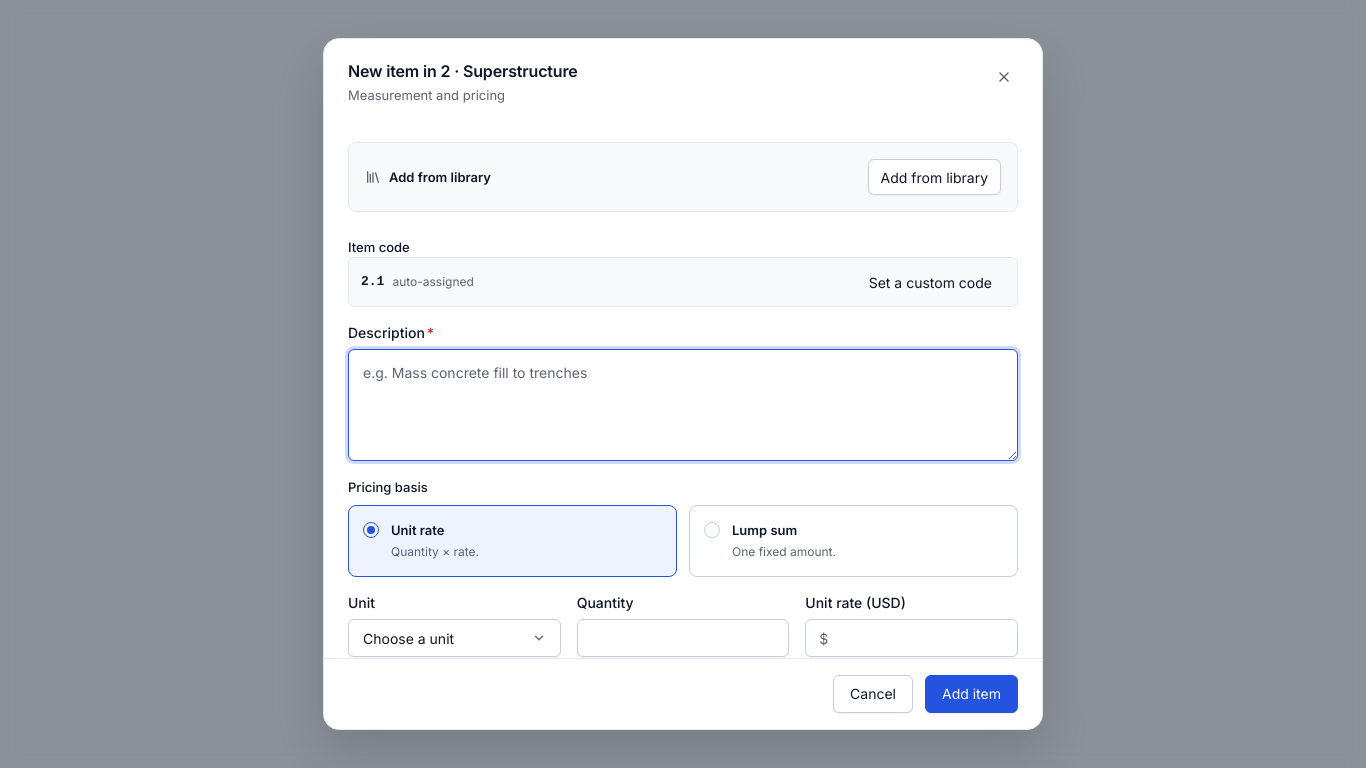
Test case: BoqItemDialog — unit dropdown › offers the active units, symbol first with the name beside it
Click the dropdown labelled "Choose a unit". click: x=454, y=638
box: [348,619,561,657]
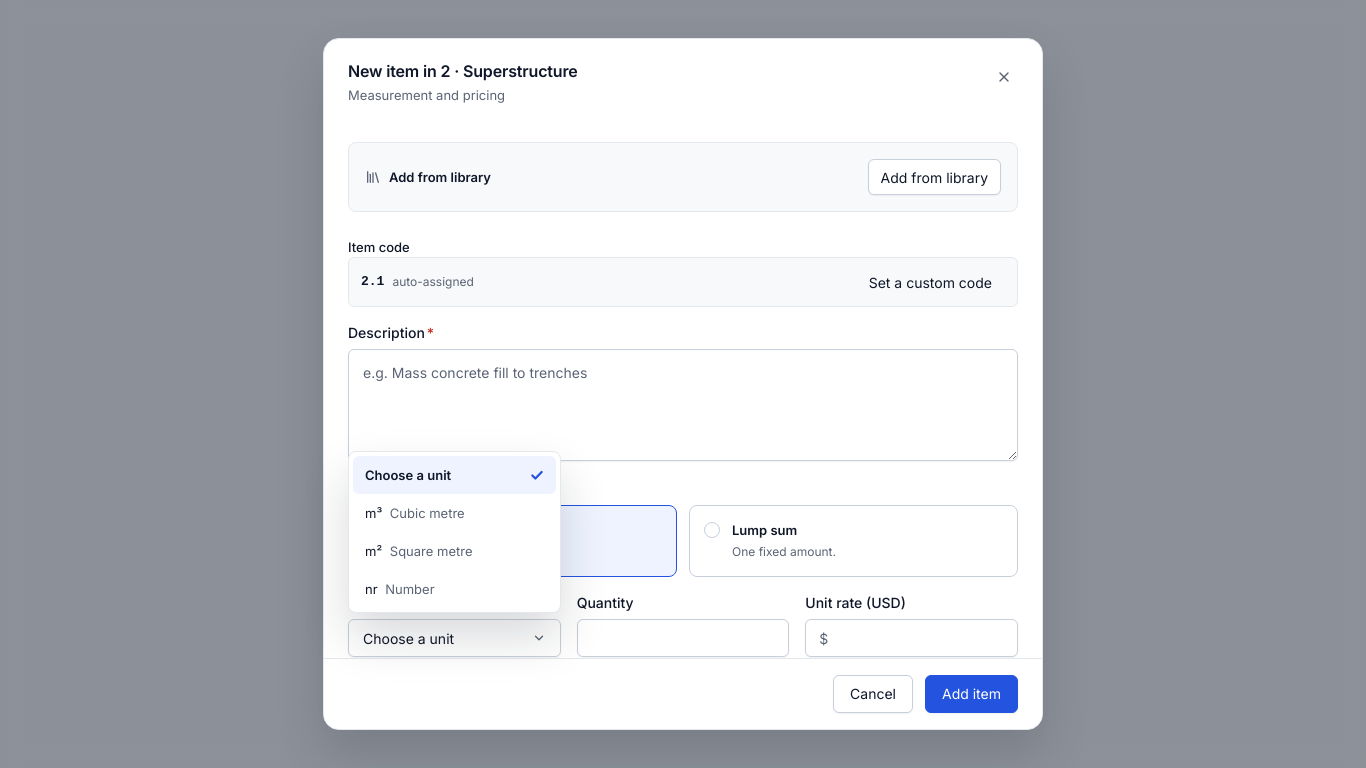
Expected: the list is shown, [348,451,561,613]
Expected: the option "m² Square metre" is shown, [365,543,472,559]
Expected: the option "nr Number" is shown, [365,581,434,597]
